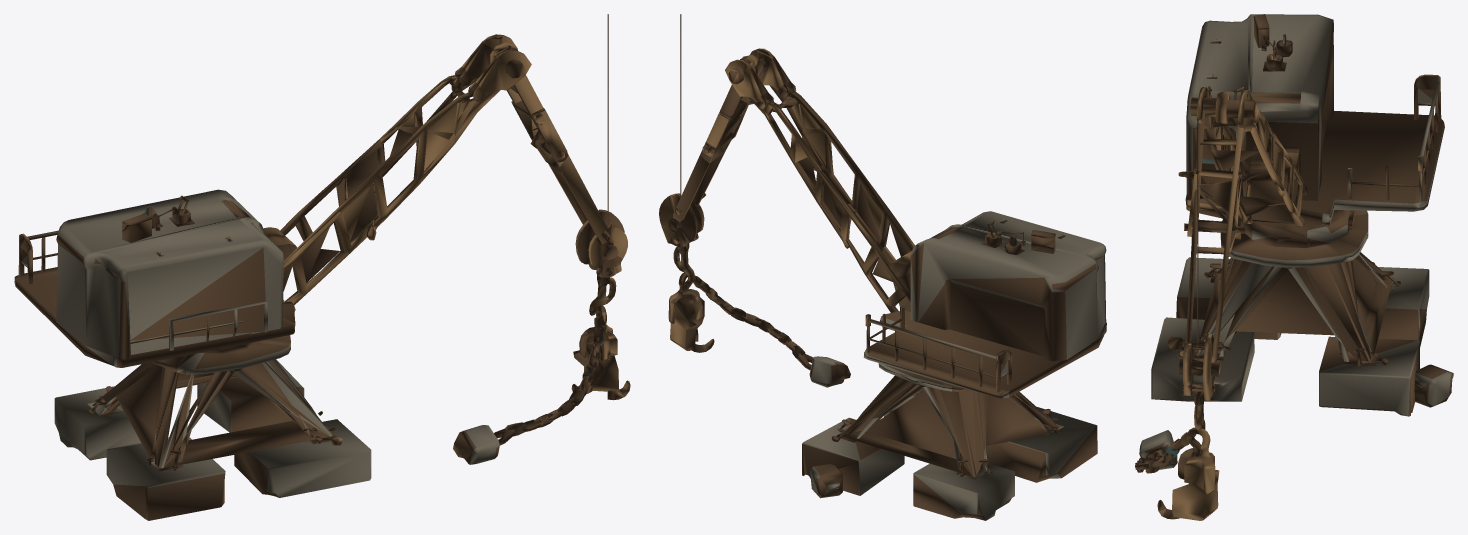
The model's file is boom_crane_wreck_a_tripo.glb.
3 renders of one model, left to right at view 1: azimuth 30°, elevation 25°; view 2: azimuth 150°, elevation 25°; view 3: azimuth 270°, elevation 25°, orthographic. The views are drawn at different scales.
Visible parts, largest first — view 1: Surface; view 2: Surface; view 3: Surface.
Boxes of the visible parts, x1,y1,x2,y2 form: Surface: [14, 14, 630, 520]; Surface: [659, 14, 1106, 520]; Surface: [1135, 14, 1453, 520].
Bounding box in the file's own units: 6.52 × 4.76 × 3.27.
